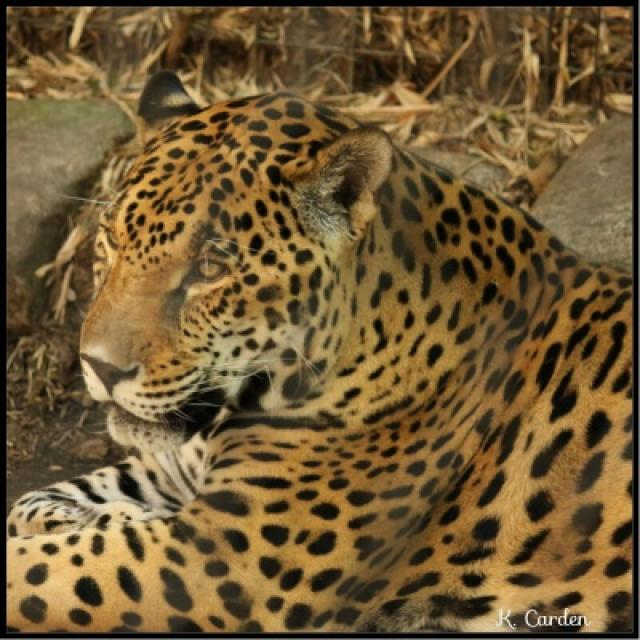Jaguar: (6, 93, 637, 635)
